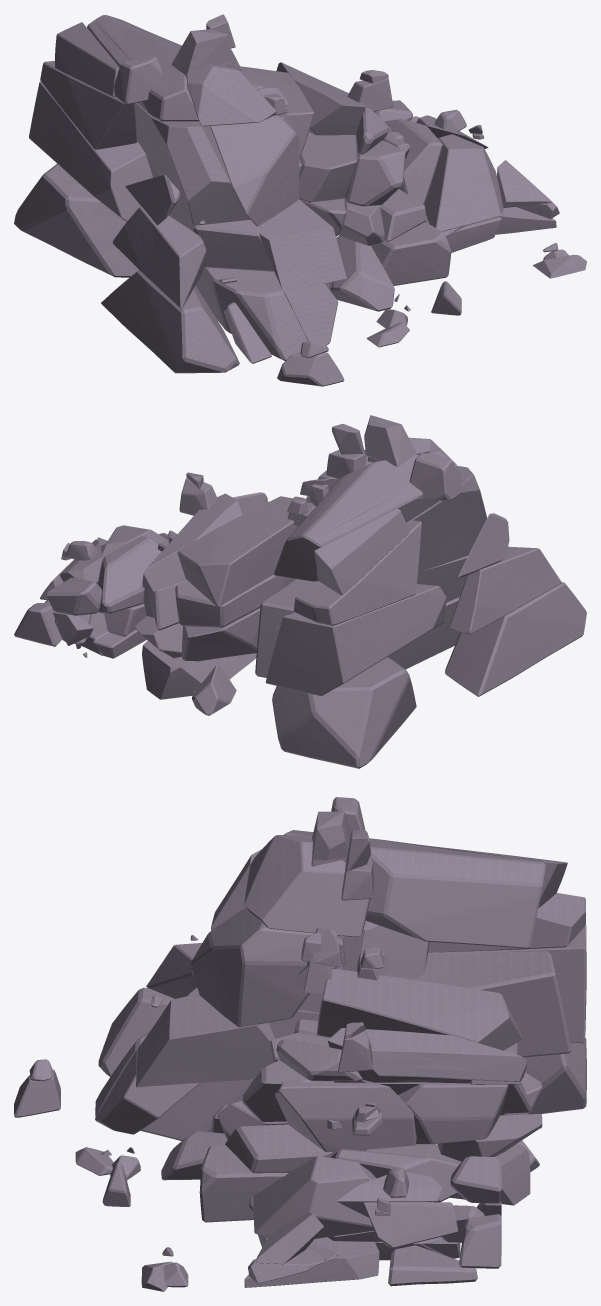
The model's file is A09_Massif_C.fbx.
The picture shows the model from 3 angles, top to bottom: view 1: azimuth 30°, elevation 25°; view 2: azimuth 150°, elevation 25°; view 3: azimuth 270°, elevation 25°; orthographic projection. The views are drawn at different scales.
Visible parts, largest first — view 1: A09C_0_0, A09C_0_2, A09C_0_13, A09C_0_14, A09C_0_7, A09C_2_18, A09C_0_3, A09C_0_9, A09C_0_5, A09C_0_16, A09C_0_12, A09C_0_17 (+29 smaller); view 2: A09C_0_7, A09C_0_2, A09C_0_0, A09C_0_16, A09C_1_17, A09C_0_5, A09C_0_12, A09C_0_13, A09C_0_15, A09C_0_8, A09C_1_3, A09C_2_16 (+23 smaller); view 3: A09C_0_16, A09C_1_17, A09C_0_14, A09C_0_9, A09C_0_8, A09C_0_17, A09C_1_18, A09C_1_16, A09C_2_18, A09C_1_14, A09C_0_13, A09C_1_5 (+39 smaller).
Boxes of the visible parts, x1,y1,x2,y2 form: A09C_0_0: (101, 270, 239, 373); A09C_0_2: (14, 164, 139, 277); A09C_0_13: (134, 103, 250, 225); A09C_0_14: (210, 115, 299, 226); A09C_0_7: (29, 81, 152, 221); A09C_2_18: (424, 134, 503, 231); A09C_0_3: (195, 266, 308, 360); A09C_0_9: (258, 199, 346, 291); A09C_0_5: (112, 206, 206, 308); A09C_0_16: (87, 15, 198, 121); A09C_0_12: (40, 61, 137, 149); A09C_0_17: (186, 63, 276, 126); A09C_0_7: (265, 584, 446, 695); A09C_0_2: (272, 657, 416, 768); A09C_0_0: (445, 582, 586, 696); A09C_0_16: (274, 450, 461, 581); A09C_1_17: (177, 496, 315, 606); A09C_0_5: (449, 546, 561, 634); A09C_0_12: (294, 520, 421, 625); A09C_0_13: (406, 466, 486, 572); A09C_0_15: (314, 508, 409, 595); A09C_0_8: (255, 556, 467, 677); A09C_1_3: (142, 640, 256, 699); A09C_2_16: (98, 536, 161, 613); A09C_0_16: (284, 830, 545, 948); A09C_1_17: (317, 968, 522, 1050); A09C_0_14: (191, 907, 344, 1027); A09C_0_9: (136, 996, 274, 1087); A09C_0_8: (187, 951, 571, 1057); A09C_0_17: (244, 835, 369, 936); A09C_1_18: (327, 1028, 527, 1083); A09C_1_16: (274, 1082, 416, 1152); A09C_2_18: (253, 1156, 376, 1238); A09C_1_14: (398, 1083, 508, 1143); A09C_0_13: (211, 849, 429, 1012); A09C_1_5: (199, 1145, 288, 1222).
Size of the model in its own units: 588 by 322 by 560.
